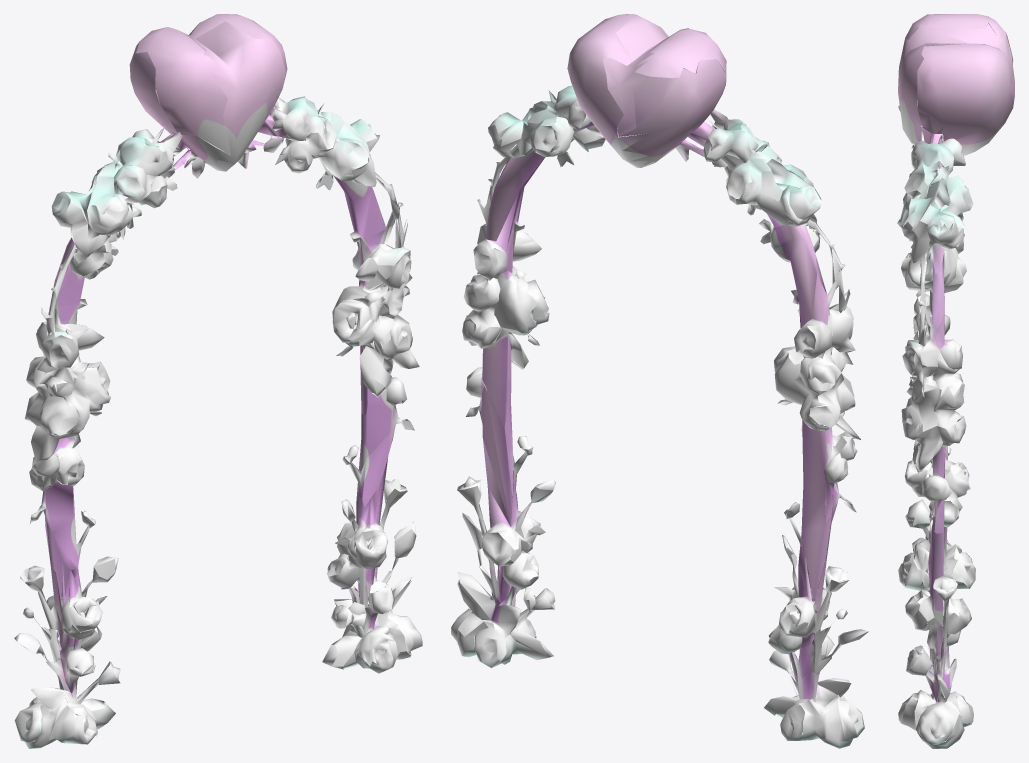
The model's file is lp_prop_hochzeitsbogen.glb.
3 views of the same model, side by side, from view 1: azimuth 30°, elevation 25°; view 2: azimuth 150°, elevation 25°; view 3: azimuth 270°, elevation 25° (orthographic). The views are drawn at different scales.
Parts seen in each view (by area): view 1: hochzeitsbogen; view 2: hochzeitsbogen; view 3: hochzeitsbogen.
Boxes of the visible parts, left/top/right/bottom form: hochzeitsbogen: left=14, top=14, right=422, bottom=748; hochzeitsbogen: left=451, top=14, right=868, bottom=748; hochzeitsbogen: left=897, top=14, right=1014, bottom=748.
Size of the model in its own units: 0.8923 by 1.4 by 0.2368.
1 material, 1 textured.
